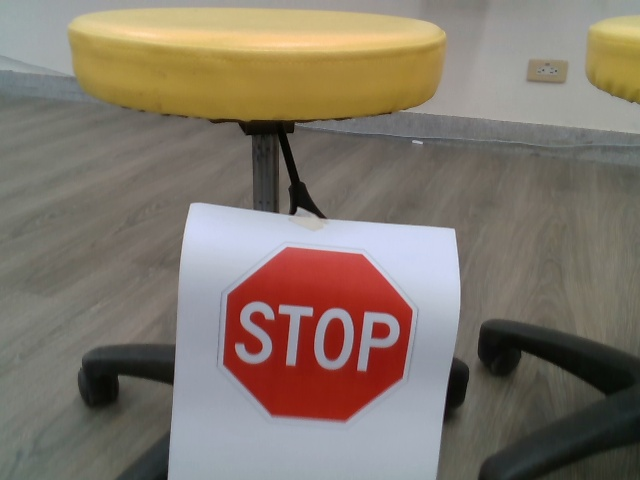stop: (215, 243, 422, 426)
